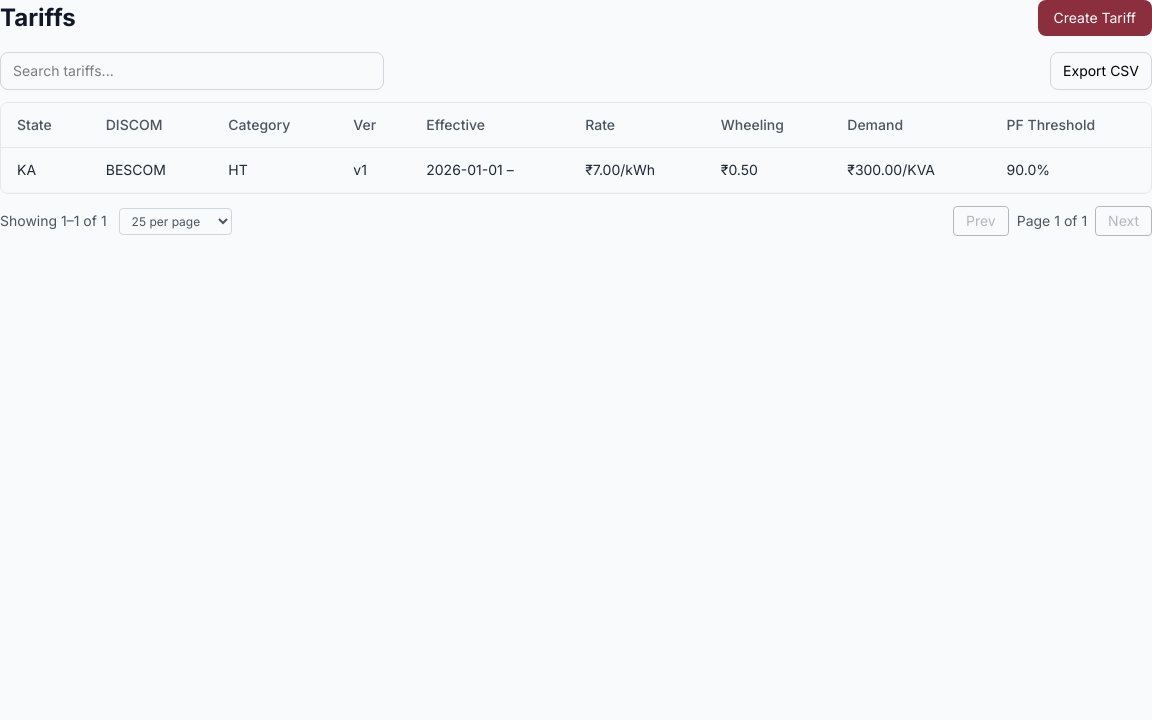
Test: Tariffs page › shows Delete Tariff button in expanded view and opens confirm dialog
# Click the row to expand it
Step 1. Click the text "BESCOM" → coordinates (151, 170), box [90,148,212,192]
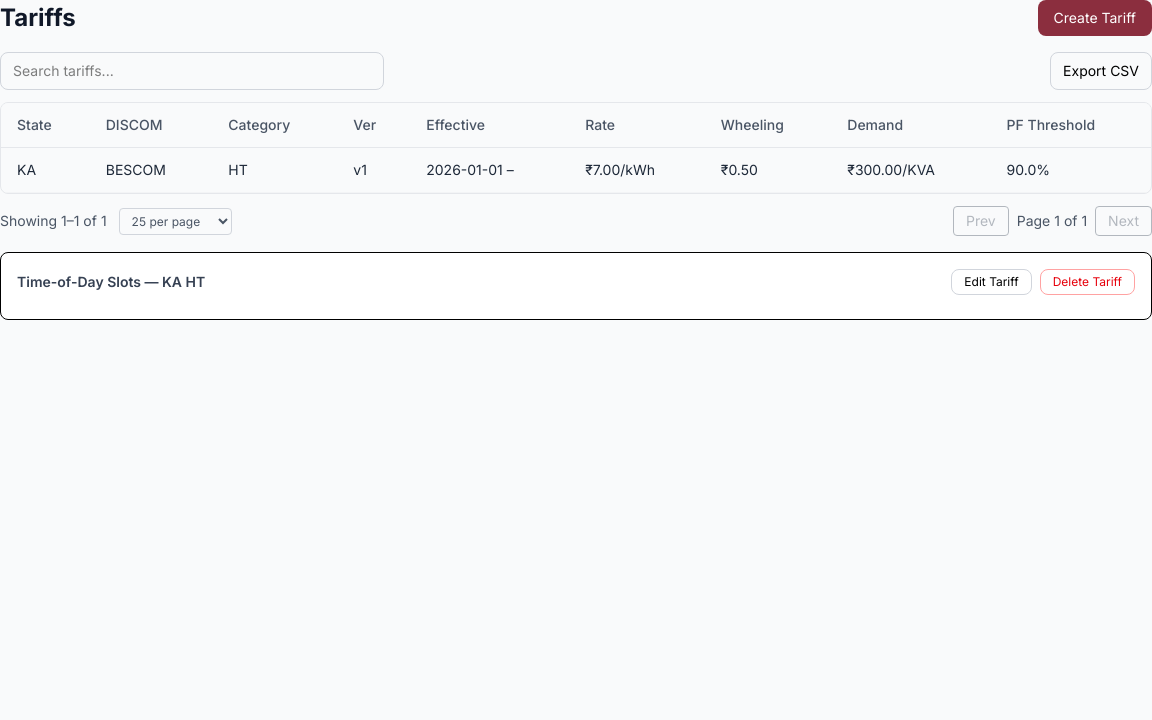
expect the button "Delete Tariff" is shown: met
Step 2. Click the button "Delete Tariff" → coordinates (1087, 282), box [1040,269,1135,295]
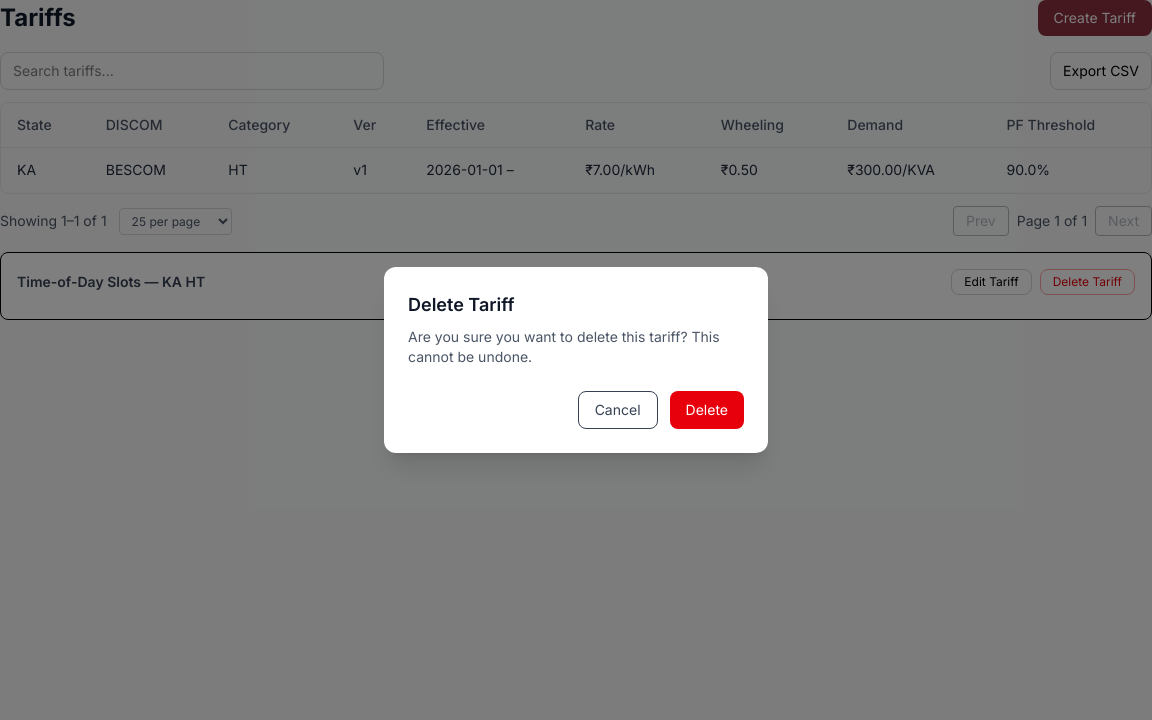
expect the dialog is shown: met
